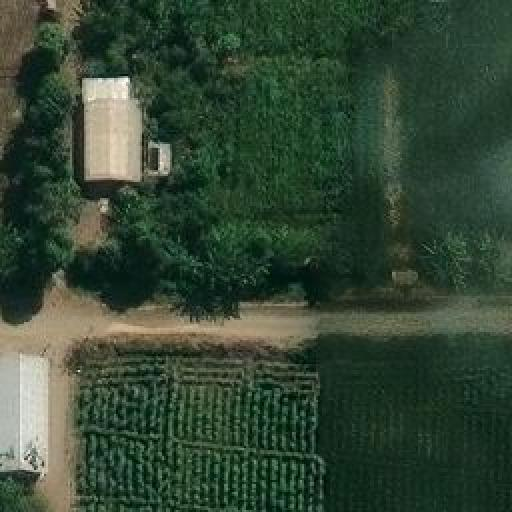manzanas: (80, 72, 177, 197), (0, 348, 57, 493)
